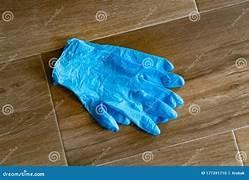Glove: (52, 39, 183, 134)
